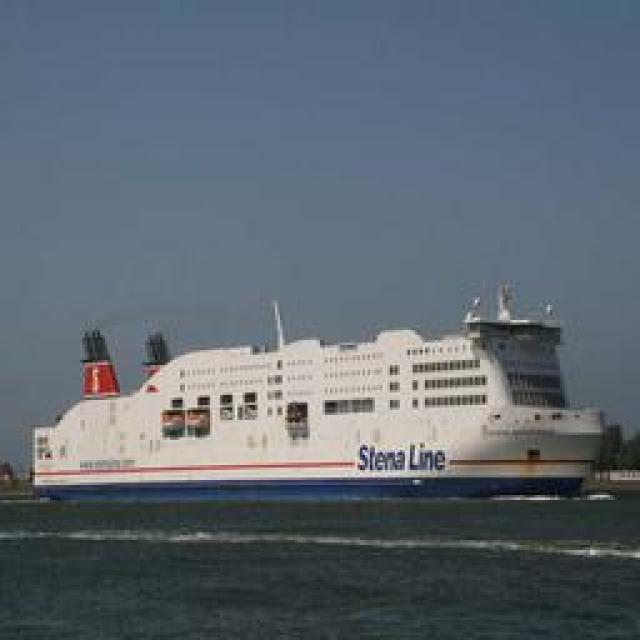ship2: (32, 281, 610, 505)
